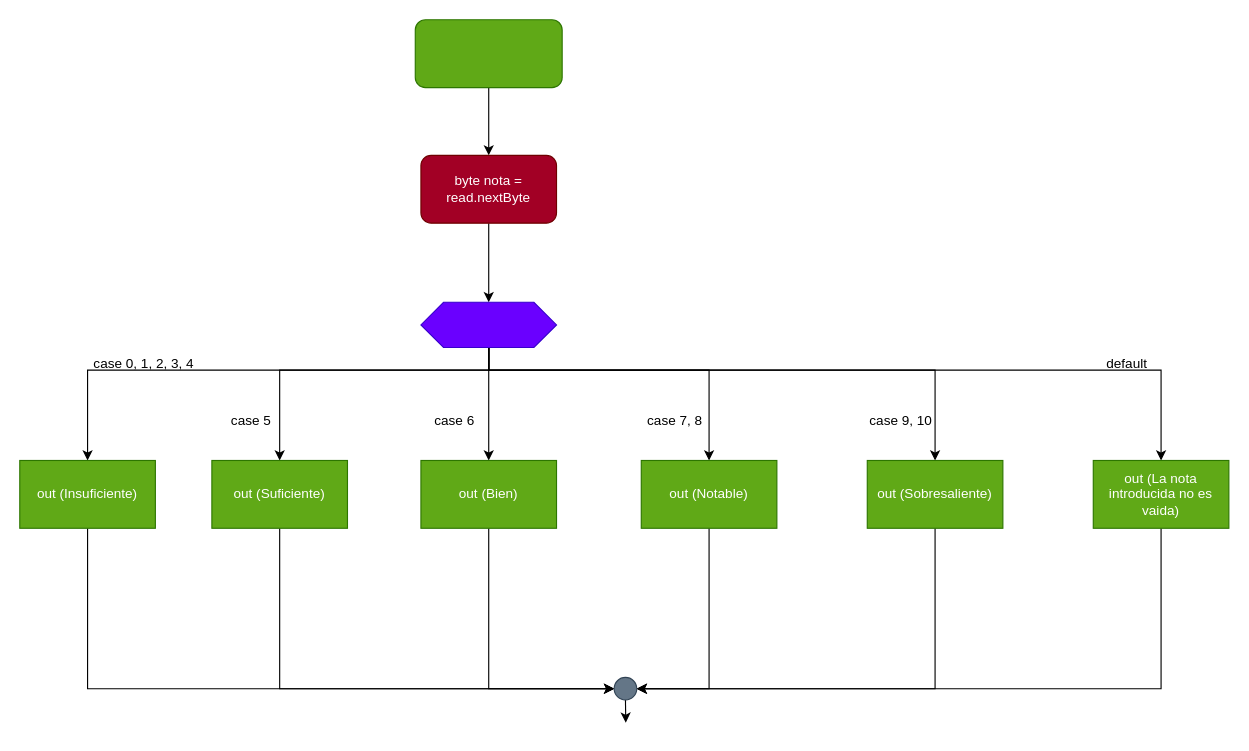
This 1249x751 diagram has some shape labels left out. Each missing label, with the centre of its shape:
"nota" belongs at point 488,324.
"out (Introduce tu nota)" belongs at point 488,53.
